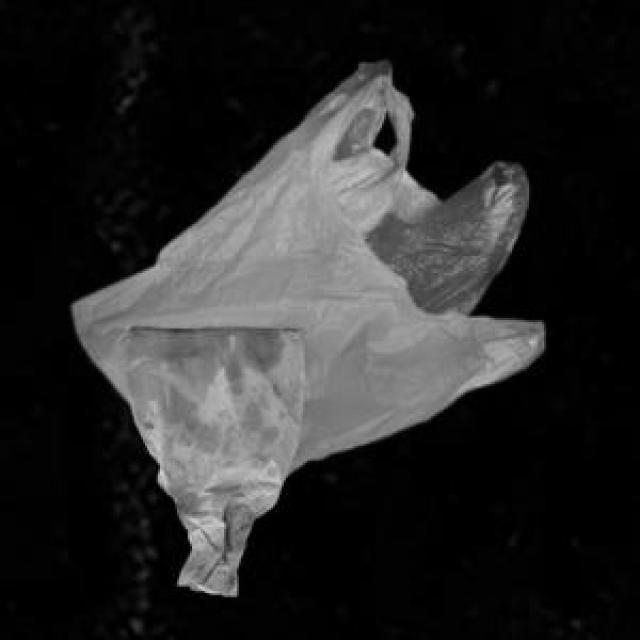paper: (120, 322, 299, 591)
